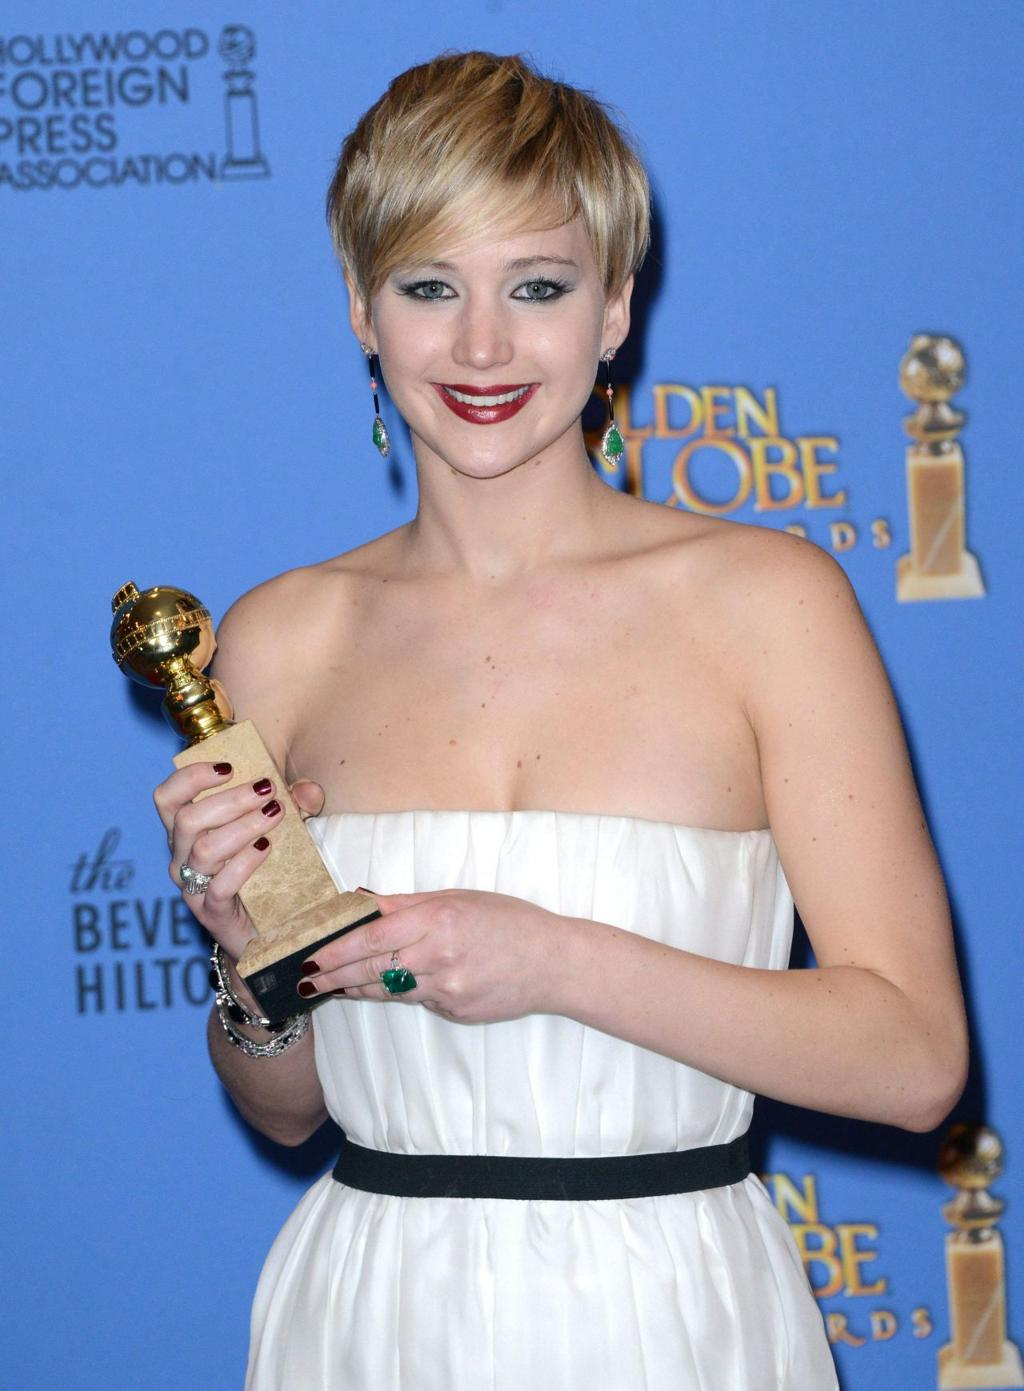face: (361, 122, 608, 486)
